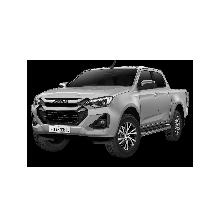NON-EV: (33, 61, 189, 160)
